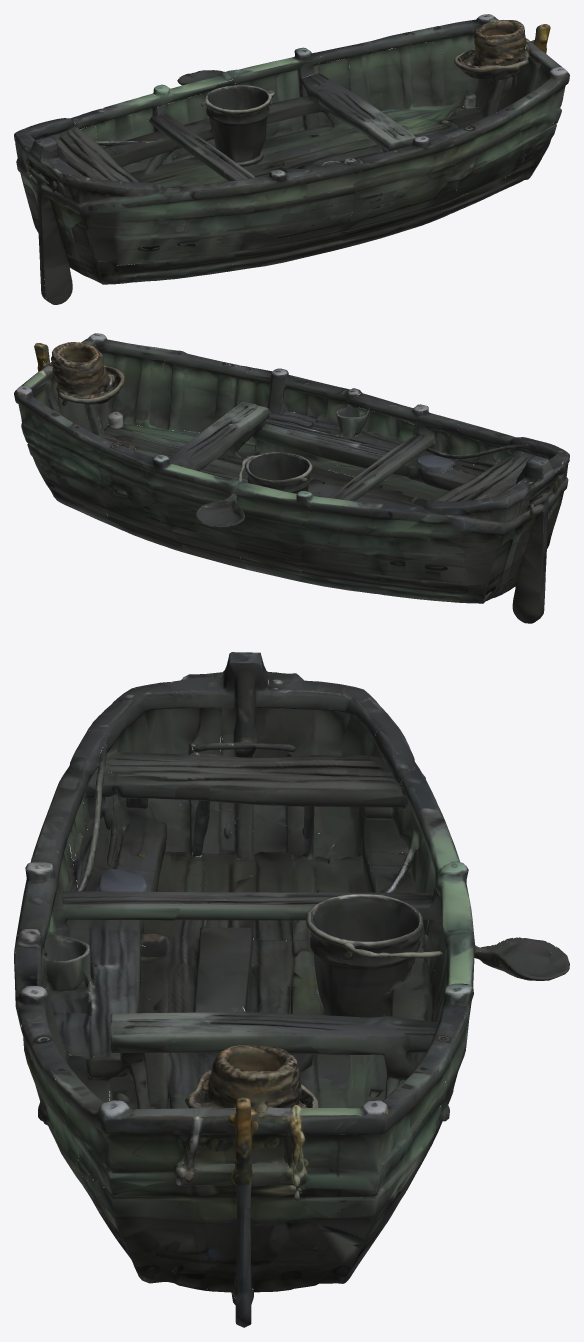
The model's file is boat-c.glb.
The picture shows the model from 3 angles, top to bottom: view 1: azimuth 30°, elevation 25°; view 2: azimuth 150°, elevation 25°; view 3: azimuth 270°, elevation 25°; orthographic projection. The views are drawn at different scales.
Parts seen in each view (by area): view 1: tripo_node_2d314558-a418-4786-ba45-a7ddffed1c94; view 2: tripo_node_2d314558-a418-4786-ba45-a7ddffed1c94; view 3: tripo_node_2d314558-a418-4786-ba45-a7ddffed1c94.
Boxes of the visible parts, bbox=[...] form: tripo_node_2d314558-a418-4786-ba45-a7ddffed1c94: bbox=[14, 14, 569, 304]; tripo_node_2d314558-a418-4786-ba45-a7ddffed1c94: bbox=[14, 333, 569, 623]; tripo_node_2d314558-a418-4786-ba45-a7ddffed1c94: bbox=[14, 652, 569, 1327].
Size of the model in its own units: 3.7 by 1.13 by 1.94.
1 material, 1 textured.
